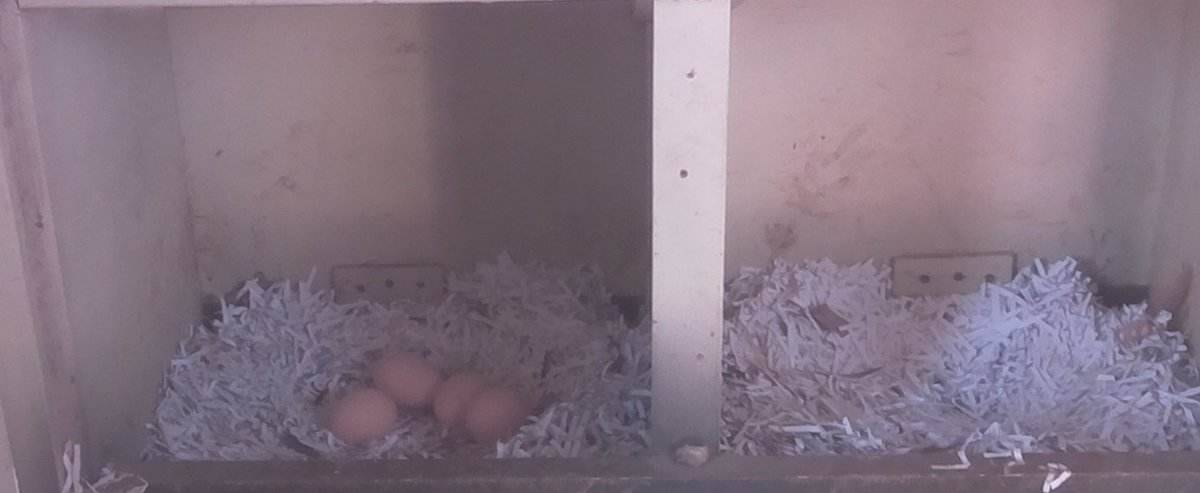egg: (322, 379, 405, 451), (363, 344, 446, 415), (462, 380, 540, 448), (434, 365, 501, 426)
